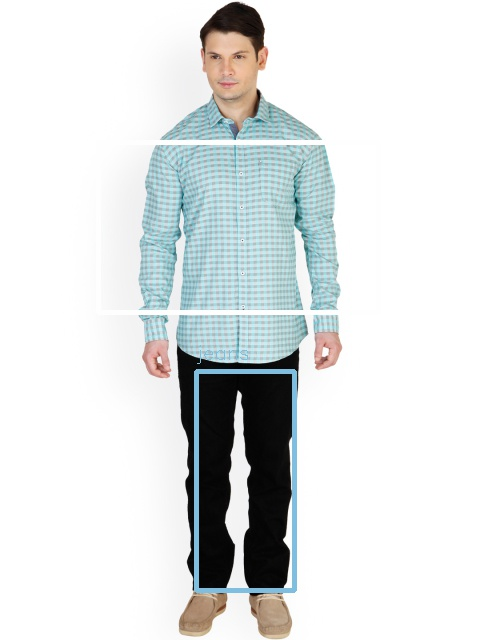jeans: (172, 358, 303, 594)
shirt: (139, 96, 337, 358)
